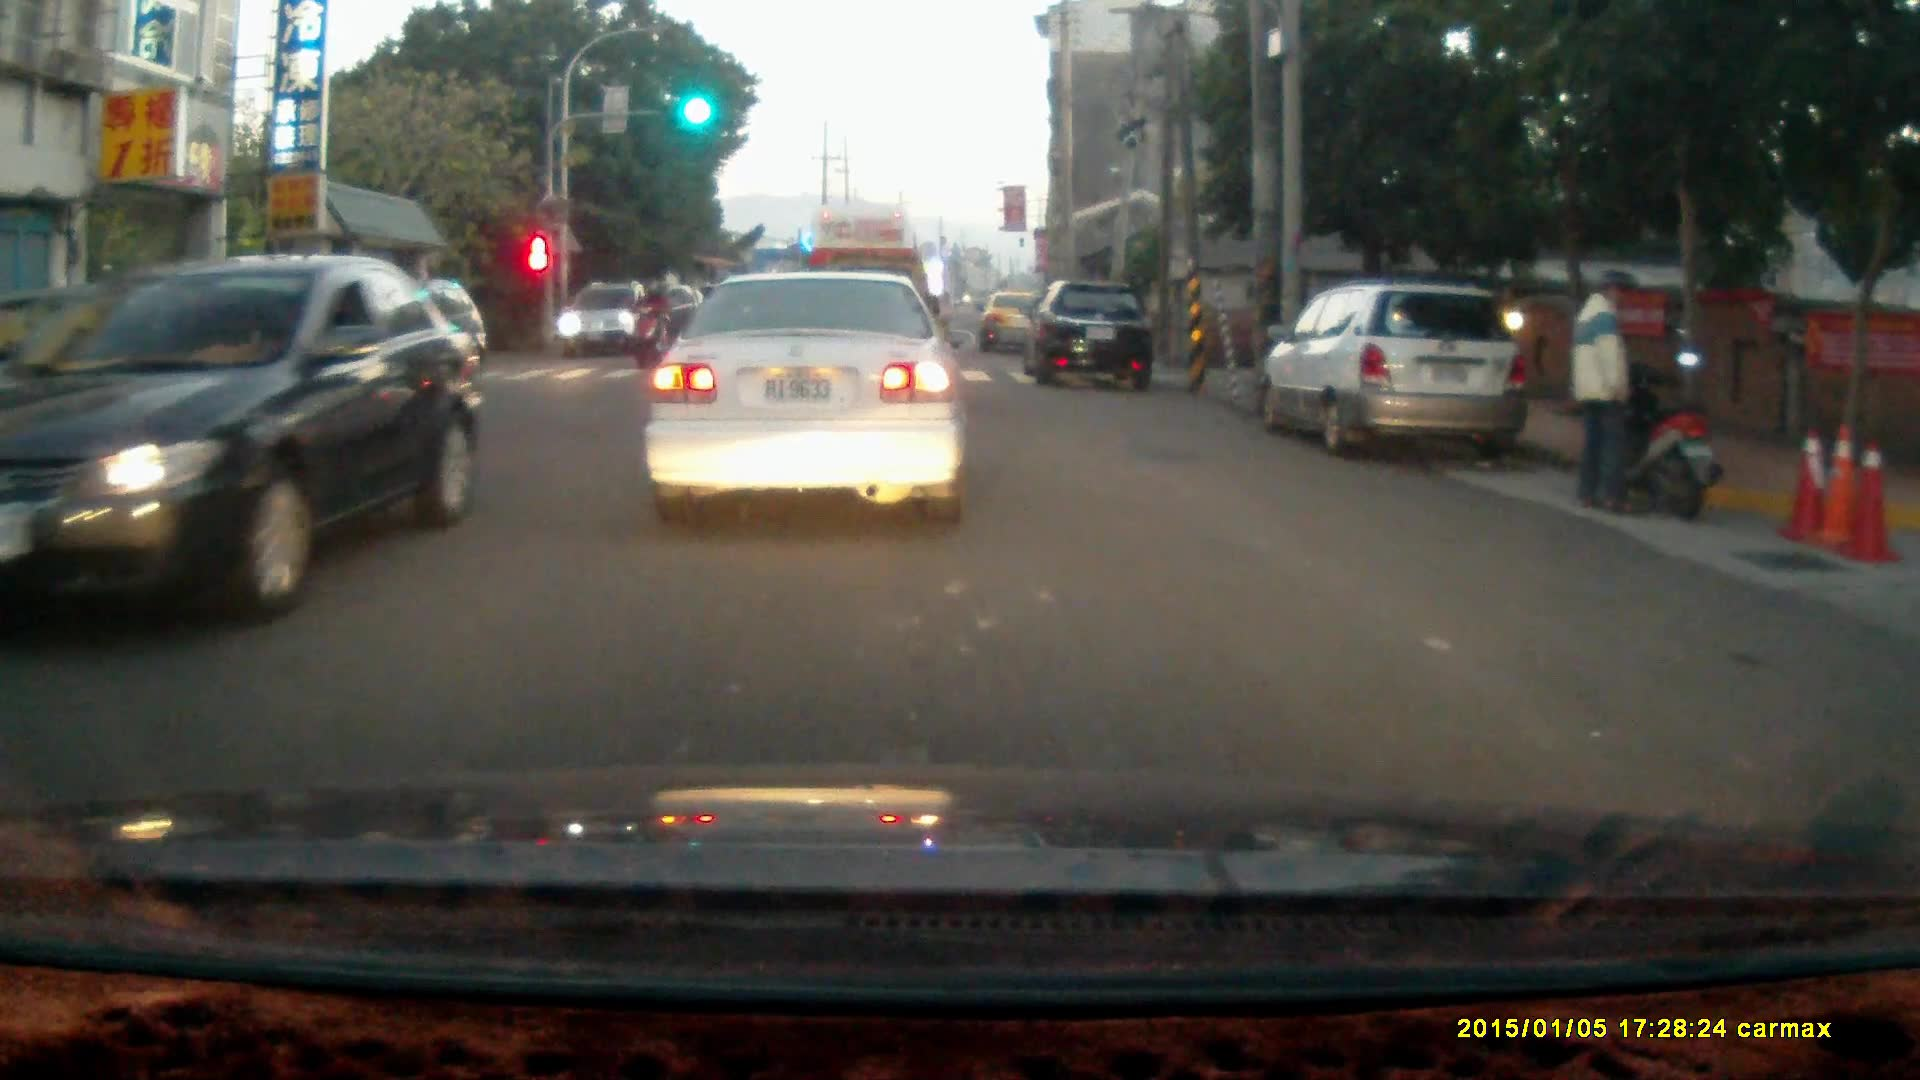pedestrian: (1564, 270, 1641, 520)
rider: (626, 276, 667, 367)
vehicle: (1, 254, 477, 631), (642, 272, 965, 527), (1273, 286, 1532, 468), (808, 204, 931, 368), (1025, 279, 1163, 391), (560, 281, 660, 355), (976, 289, 1070, 360)
